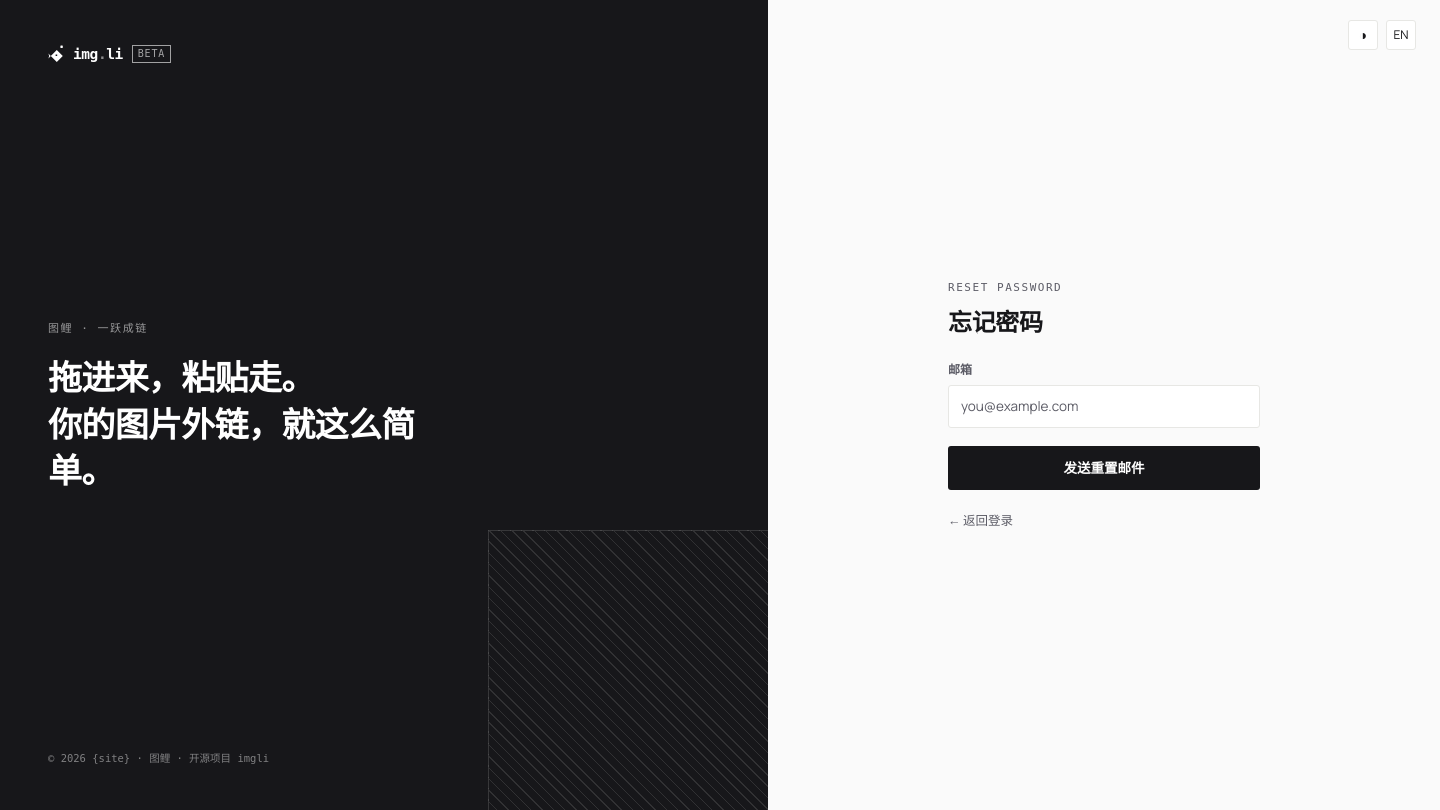
Scenario: 忘记密码:提交后恒显成功文案
In the field labelled "邮箱": (1104, 406) [948,385,1260,428], type "a@img.li"
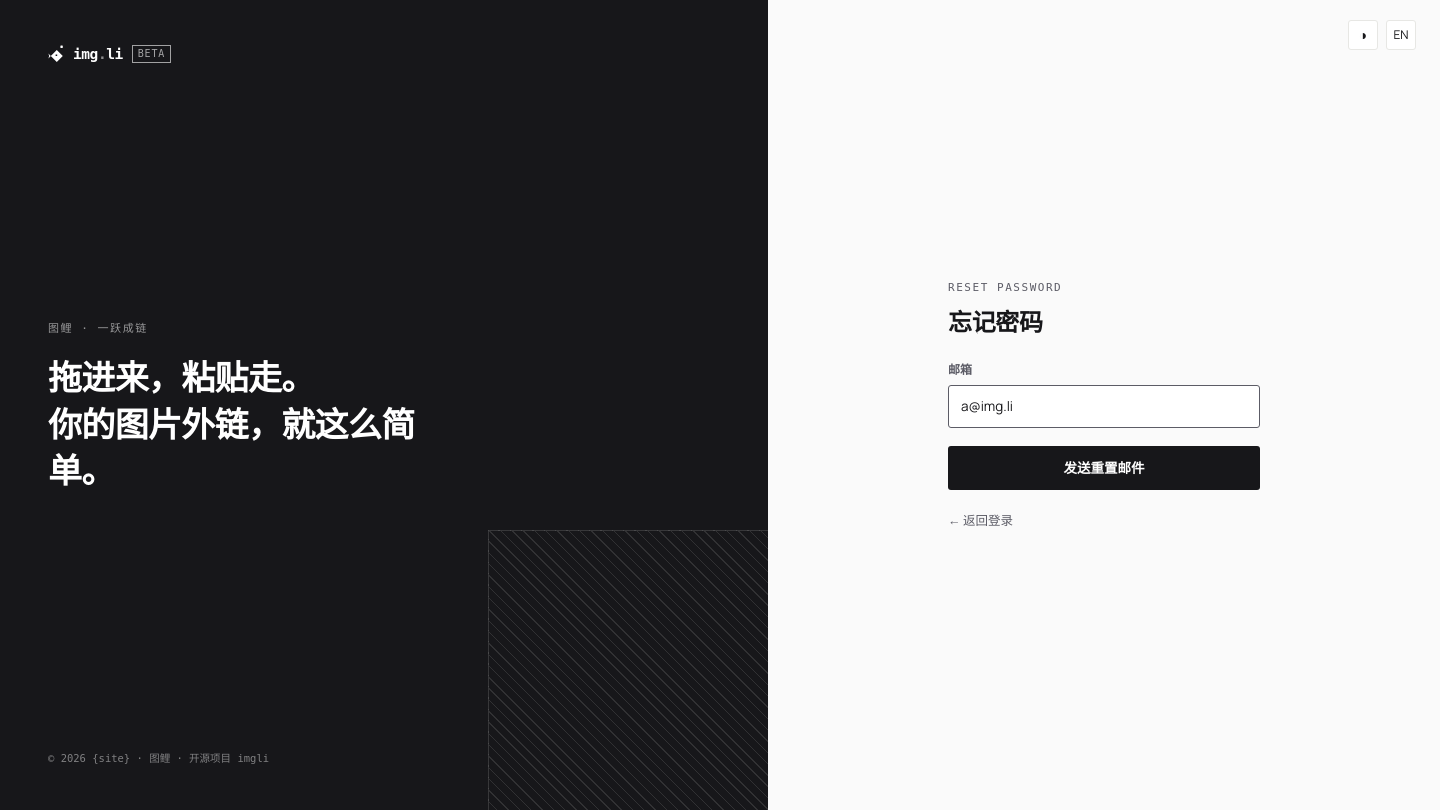
Click the button "发送重置邮件": (1104, 468) [948,446,1260,490]
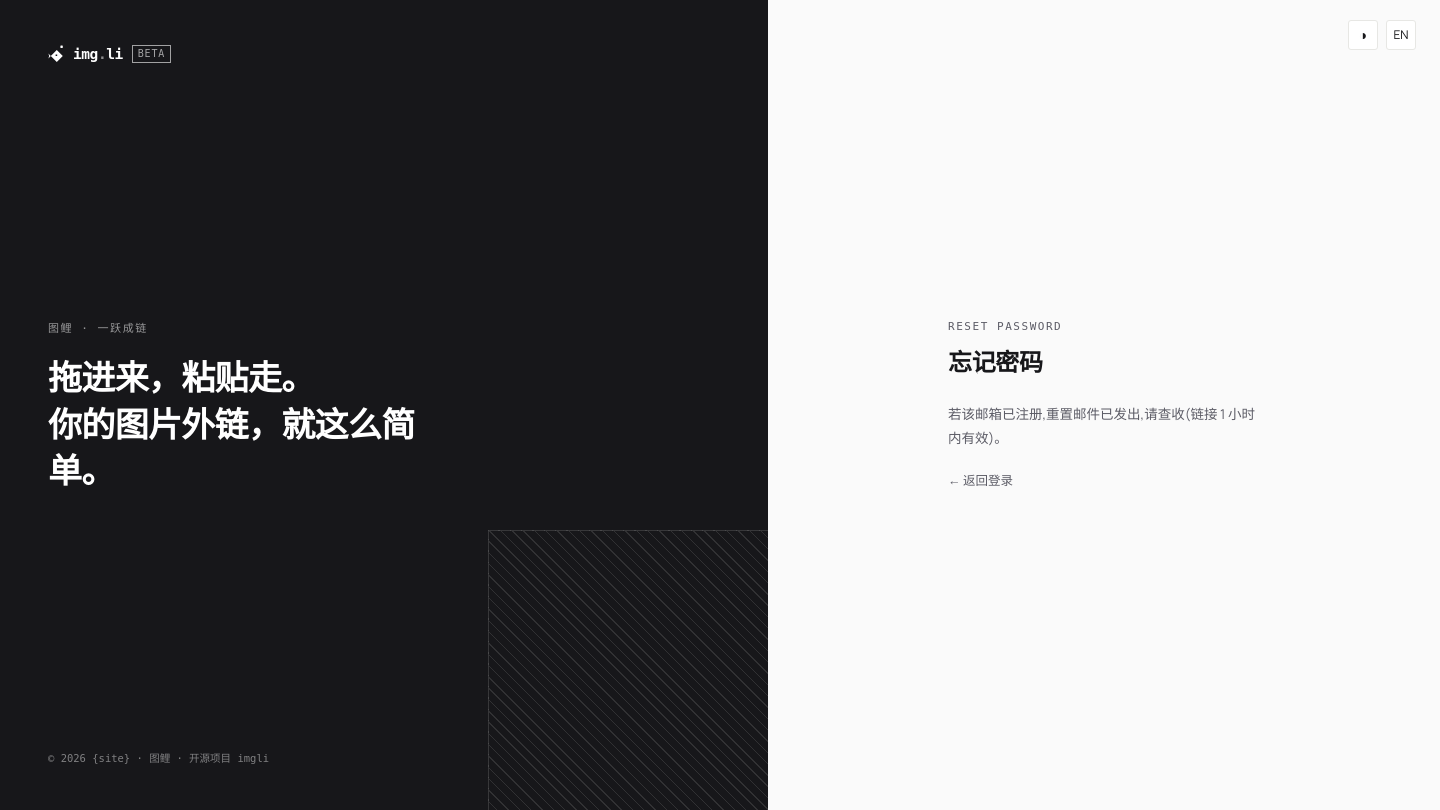
Now the text "若该邮箱已注册,重置邮件已发出,请查收(链接 1 小时内有效)。" is shown, box [948,402,1260,450]
